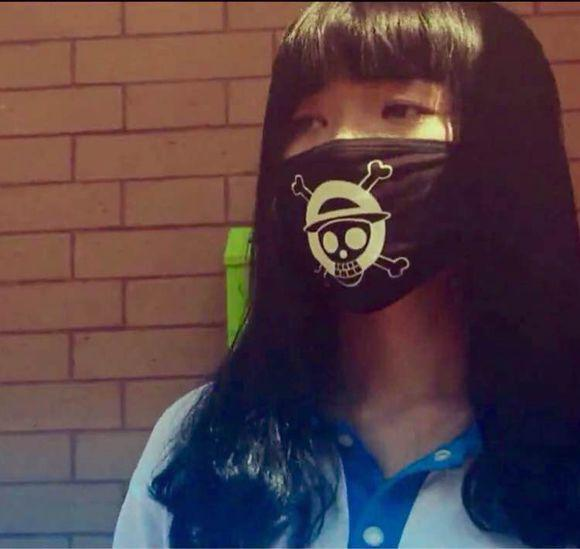OK: (268, 75, 501, 308)
